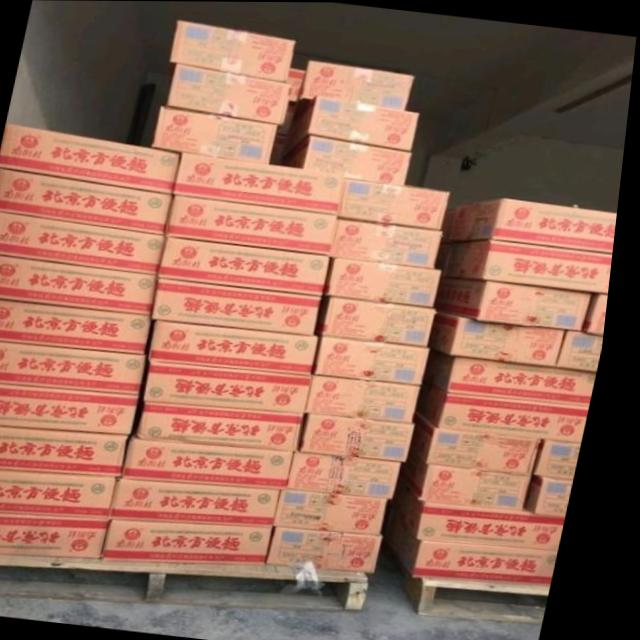box: (0, 124, 183, 194), (398, 511, 570, 585), (404, 478, 574, 549), (0, 168, 175, 234), (0, 211, 171, 274), (177, 152, 347, 214), (161, 235, 336, 295), (434, 348, 603, 407), (427, 384, 598, 442), (169, 196, 342, 253), (159, 277, 327, 335), (447, 197, 622, 252), (441, 239, 618, 293), (141, 62, 292, 124), (156, 320, 325, 375), (0, 257, 162, 314), (144, 21, 296, 81), (128, 105, 280, 163), (133, 437, 303, 488), (152, 361, 320, 412), (0, 300, 157, 353), (444, 276, 598, 330), (122, 478, 292, 526), (147, 402, 314, 450), (287, 95, 420, 155), (0, 343, 154, 394), (421, 415, 549, 474), (0, 383, 147, 434), (437, 311, 570, 367), (415, 451, 541, 509), (116, 519, 282, 563), (0, 426, 139, 476), (287, 134, 415, 185), (0, 469, 127, 516), (343, 177, 455, 229), (325, 296, 442, 345), (336, 217, 448, 268), (302, 59, 415, 109), (332, 257, 447, 306), (310, 412, 423, 461), (316, 374, 428, 423), (279, 525, 393, 572), (299, 450, 411, 497), (322, 337, 436, 383), (0, 514, 120, 557), (287, 488, 397, 534), (536, 474, 584, 515), (565, 329, 609, 371), (545, 438, 591, 477), (590, 293, 615, 334), (289, 68, 306, 101)
